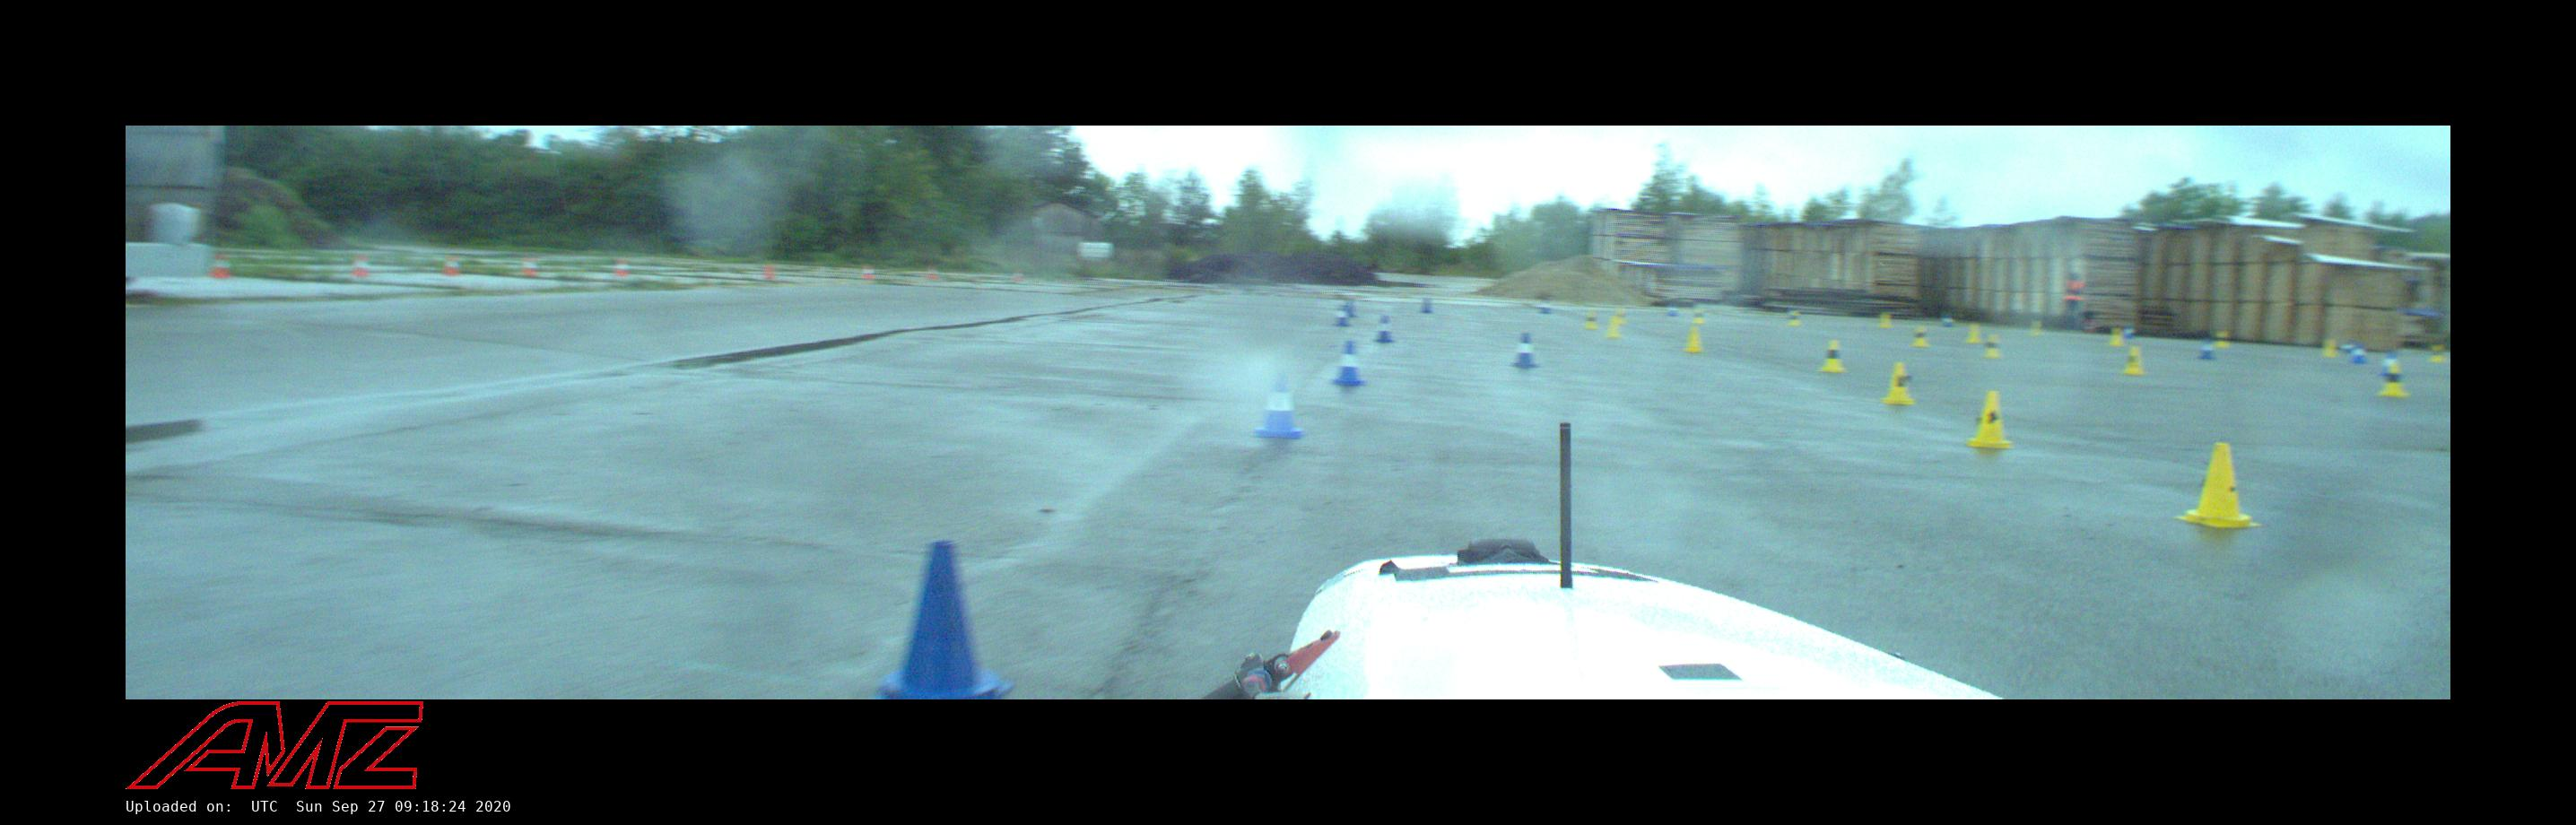blue_cone: (867, 542, 1017, 698), (1254, 375, 1304, 437), (1331, 342, 1367, 385), (1510, 334, 1538, 368), (1372, 316, 1396, 342)
yellow_cone: (2173, 444, 2261, 528), (1966, 391, 2012, 449), (1881, 362, 1914, 404), (2377, 365, 2407, 396), (1820, 342, 1845, 371), (2119, 347, 2144, 375), (1684, 327, 1702, 352), (1985, 335, 1999, 358), (1912, 327, 1927, 347)
